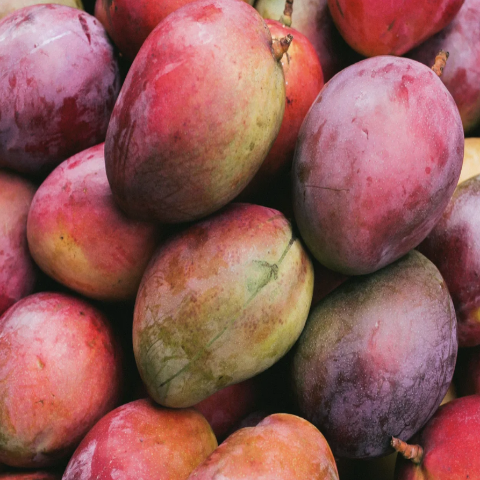mango: (82, 0, 306, 234), (290, 26, 469, 278), (109, 201, 335, 398), (283, 246, 468, 463)
